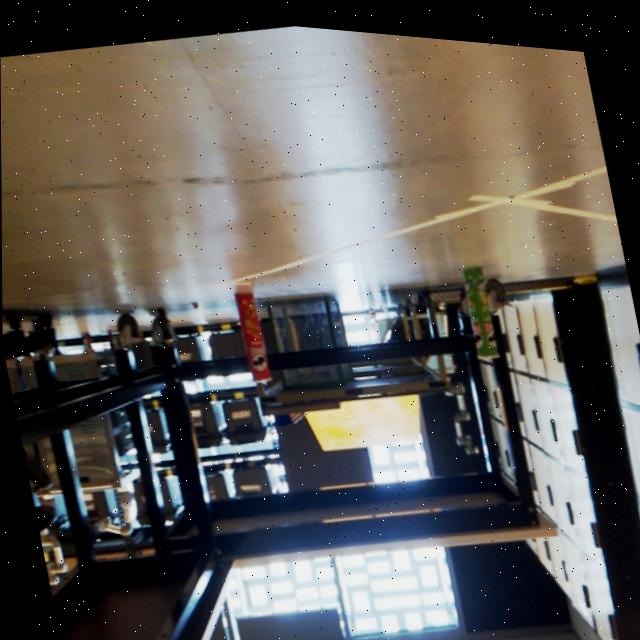greenpringles: (449, 248, 507, 361)
redpringles: (226, 281, 286, 397)
